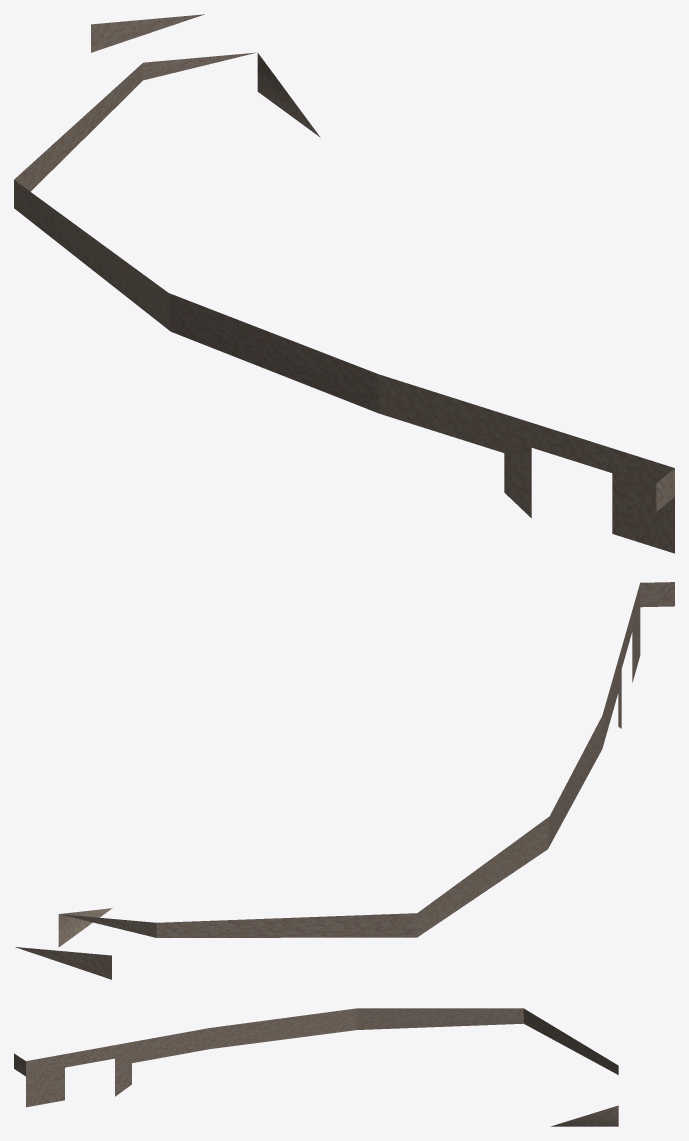
The model's file is kd_stage_135fe0_3_19_bounded.glb.
3 views of the same model, one above another, from view 1: azimuth 30°, elevation 25°; view 2: azimuth 150°, elevation 25°; view 3: azimuth 270°, elevation 25° (orthographic). The views are drawn at different scales.
Visible parts, largest first — view 1: kd_stage_135fe0_3_19_bounded; view 2: kd_stage_135fe0_3_19_bounded; view 3: kd_stage_135fe0_3_19_bounded.
Boxes of the visible parts, x1,y1,x2,y2 form: kd_stage_135fe0_3_19_bounded: (14, 14, 674, 553); kd_stage_135fe0_3_19_bounded: (15, 582, 674, 979); kd_stage_135fe0_3_19_bounded: (14, 1008, 618, 1126).
Bounding box in the file's own units: 9.73 × 2.69 × 31.1.
1 material, 1 textured.
